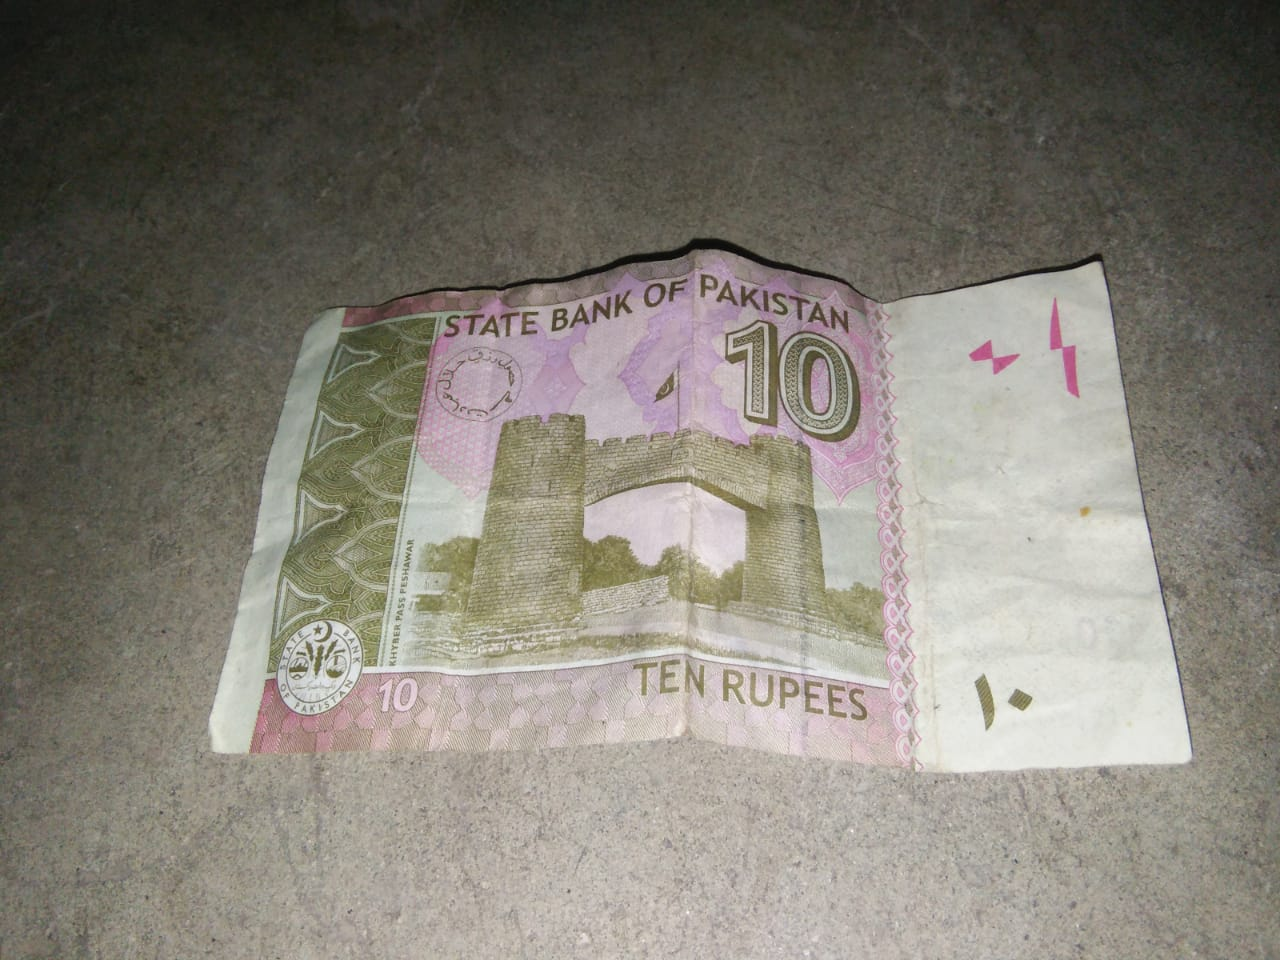10 rupee: (174, 233, 1206, 764)
